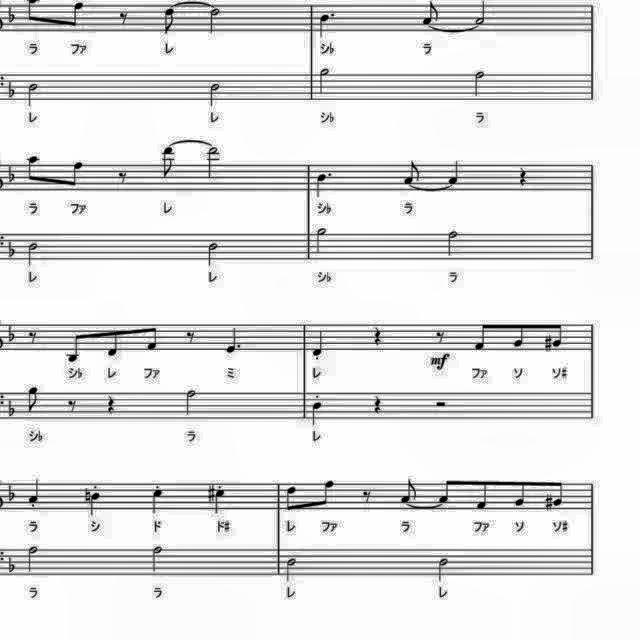Bemol: (4, 552, 20, 576), (5, 479, 18, 505), (3, 322, 17, 346), (6, 390, 18, 418), (6, 235, 18, 263), (5, 162, 19, 186), (5, 2, 18, 26), (4, 79, 18, 101)
Diez: (538, 330, 552, 356), (540, 489, 554, 513), (206, 481, 217, 507)
Eighth-note: (22, 151, 46, 187), (314, 476, 338, 512), (64, 157, 88, 191), (63, 330, 85, 366), (64, 0, 88, 32), (396, 475, 420, 505), (402, 157, 426, 187), (104, 325, 124, 361), (474, 478, 494, 514), (160, 146, 180, 182), (472, 321, 492, 355), (142, 321, 162, 354), (160, 4, 180, 36), (548, 318, 568, 350), (434, 476, 454, 508), (418, 0, 442, 26), (510, 321, 530, 352), (23, 384, 42, 416), (509, 478, 528, 510), (282, 482, 300, 514), (550, 478, 568, 510)
Eighth-rest: (112, 5, 132, 28), (64, 394, 82, 416), (113, 167, 131, 187), (26, 326, 42, 346), (182, 326, 198, 346), (358, 486, 374, 506), (432, 326, 448, 346)
Half-note: (470, 67, 490, 101), (314, 65, 334, 99), (203, 146, 221, 182), (313, 225, 332, 259), (180, 388, 200, 420), (205, 78, 225, 110), (24, 544, 44, 576), (442, 225, 461, 258), (148, 542, 166, 576), (204, 4, 223, 36), (23, 79, 42, 109), (435, 553, 453, 583), (25, 239, 43, 269), (205, 239, 223, 269), (470, 0, 490, 26), (282, 556, 300, 584)
Half-rest: (430, 395, 450, 409)
Quarter-dot: (310, 168, 336, 200), (314, 8, 338, 40), (222, 324, 244, 356)
Quarter-note: (148, 483, 166, 517), (310, 326, 328, 359), (26, 476, 44, 508), (86, 489, 105, 519), (212, 484, 228, 516), (445, 158, 463, 186), (310, 400, 326, 430)
Quarter-rest: (368, 392, 384, 420), (369, 323, 386, 349), (104, 392, 120, 418), (514, 166, 530, 192)
